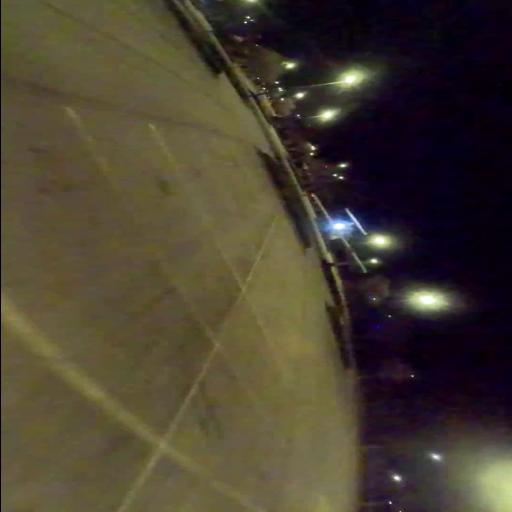uav: (308, 190, 376, 276)
